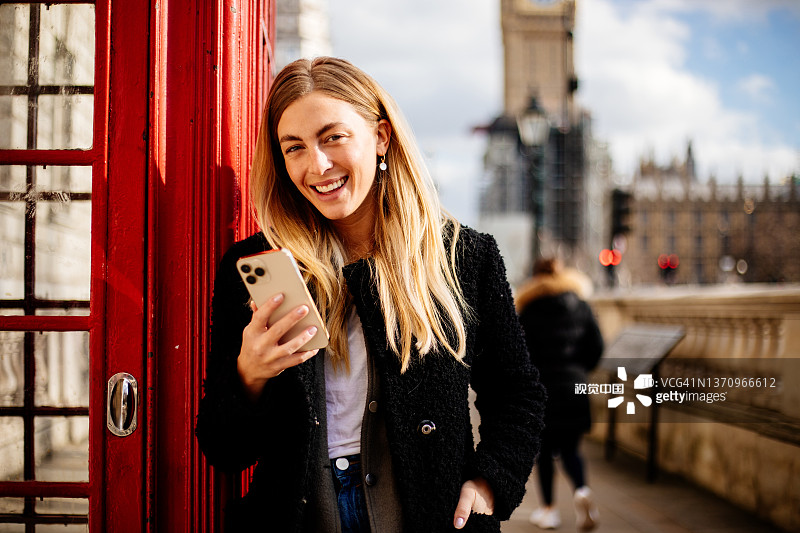reading: (223, 244, 338, 390)
